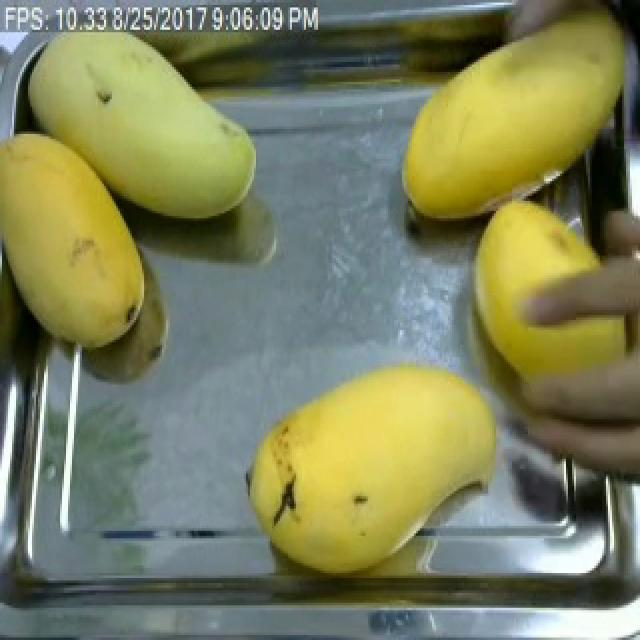fruit: (250, 352, 510, 590), (384, 0, 640, 226), (14, 29, 266, 230), (452, 181, 634, 439), (0, 114, 158, 357)
